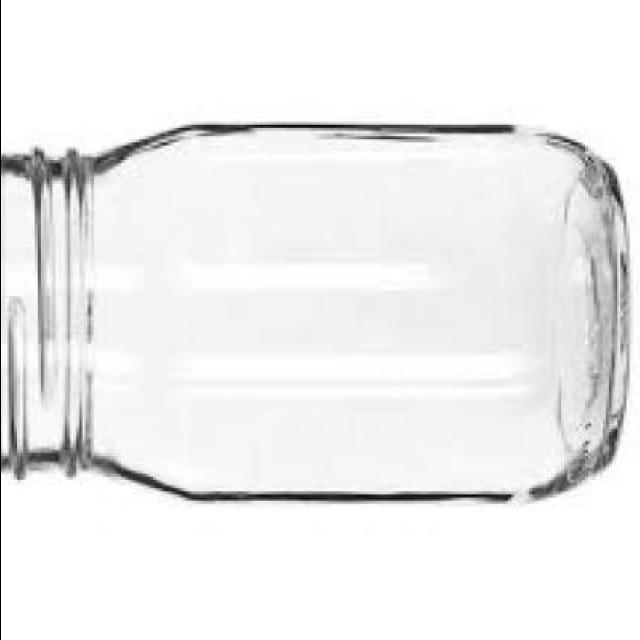kaca: (0, 126, 621, 502)
